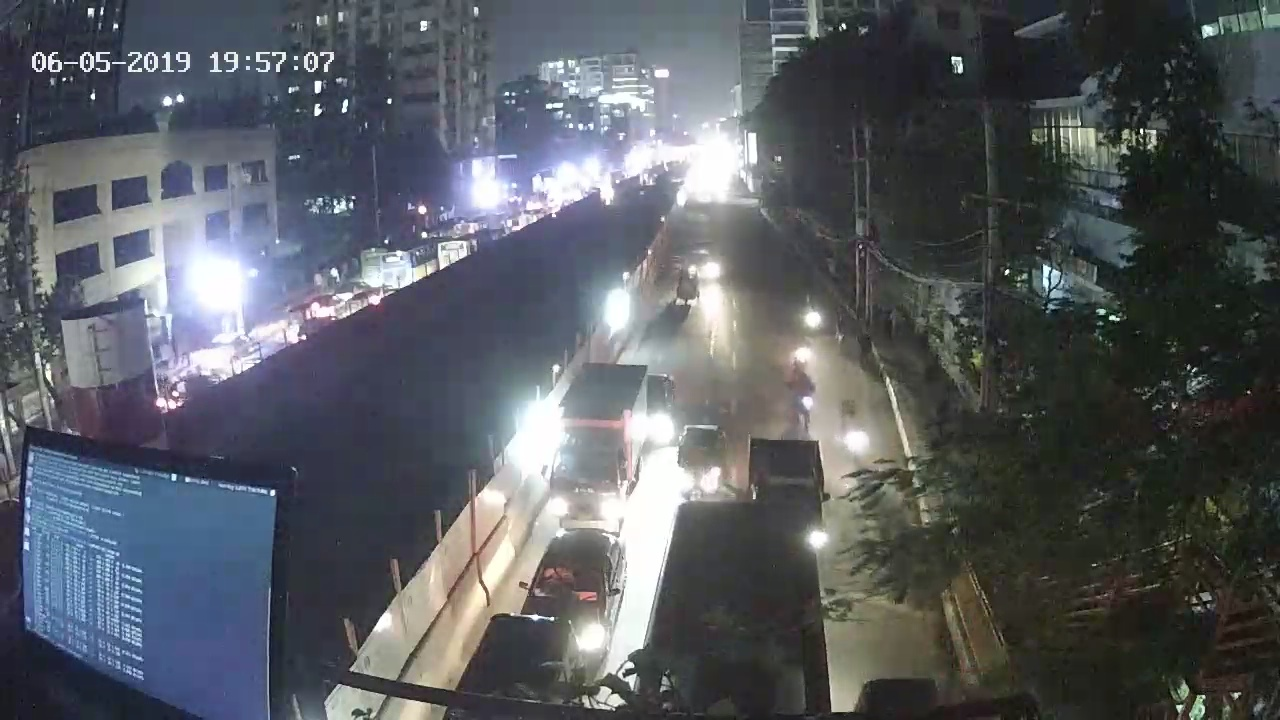fast_in: (662, 503, 836, 720), (458, 608, 579, 720), (522, 522, 635, 638), (561, 364, 639, 520), (673, 420, 729, 498)
